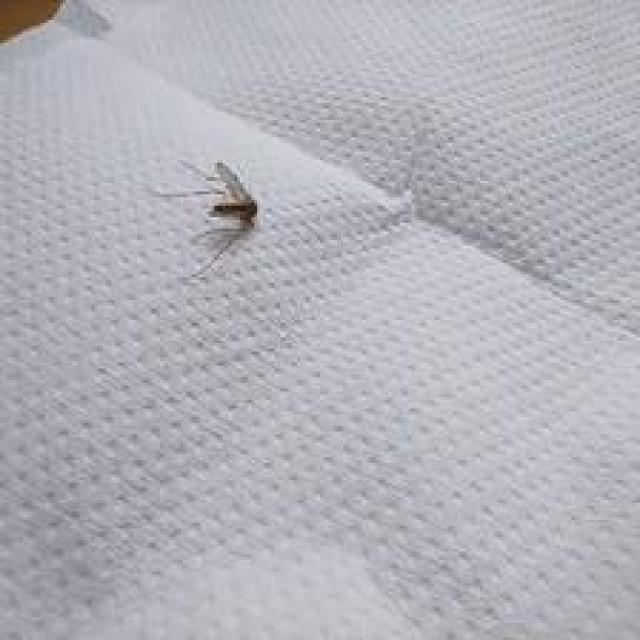Culex: (154, 157, 260, 229)
